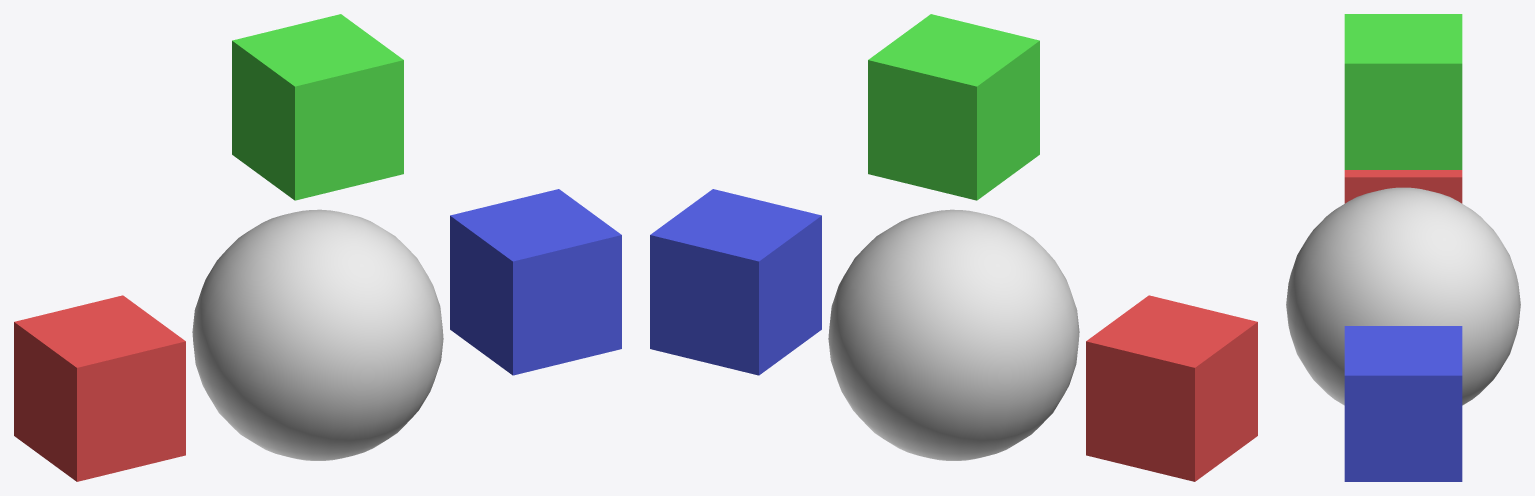
File: complex_hierarchy.glb
3 views of the same model, side by side, from view 1: azimuth 30°, elevation 25°; view 2: azimuth 150°, elevation 25°; view 3: azimuth 270°, elevation 25° (orthographic). The views are drawn at different scales.
Visible parts, largest first — view 1: Sphere, Child Cube 1, Parent Cube, Child Cube 2; view 2: Sphere, Child Cube 1, Parent Cube, Child Cube 2; view 3: Sphere, Child Cube 2, Parent Cube, Child Cube 1.
Part boxes in pixels (bbox=[...]): Sphere: bbox=[192, 209, 443, 460]; Child Cube 1: bbox=[14, 295, 185, 481]; Parent Cube: bbox=[232, 14, 403, 200]; Child Cube 2: bbox=[450, 189, 621, 375]; Sphere: bbox=[828, 209, 1079, 460]; Child Cube 1: bbox=[1086, 295, 1257, 481]; Parent Cube: bbox=[868, 14, 1039, 200]; Child Cube 2: bbox=[650, 189, 821, 375]; Sphere: bbox=[1286, 187, 1520, 405]; Child Cube 2: bbox=[1344, 326, 1462, 481]; Parent Cube: bbox=[1344, 14, 1462, 169]; Child Cube 1: bbox=[1344, 170, 1462, 203].
Bounding box in the file's own units: 5 × 3.5 × 2.
